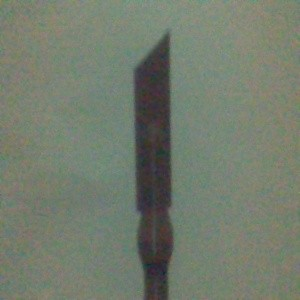cutter: (132, 27, 174, 300)
